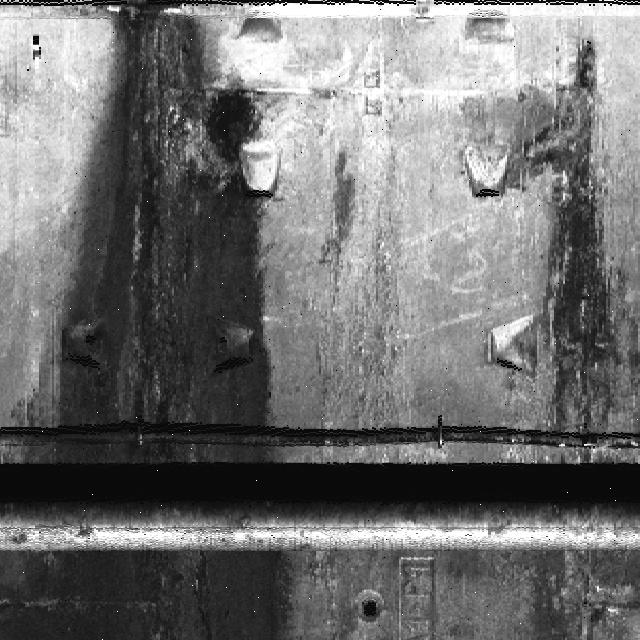leakage: (0, 0, 298, 634), (509, 22, 639, 639)
